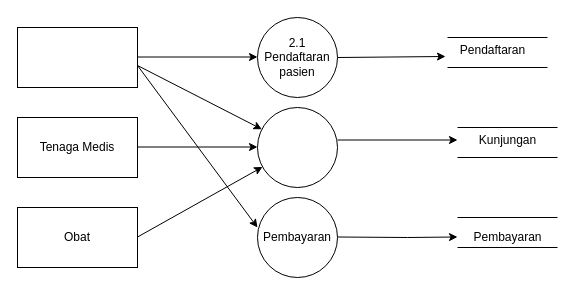
The diagram is 576 pixels wide and 295 high, and some of its shapes have lost their labels. The shapes that lost their labels are listed below. From the top down, each one's box as (x1, y1, x2, y2) in pixels, then its label:
(16, 26, 138, 88): Pasien
(256, 106, 338, 188): 2.2 Kunjungan Medis
